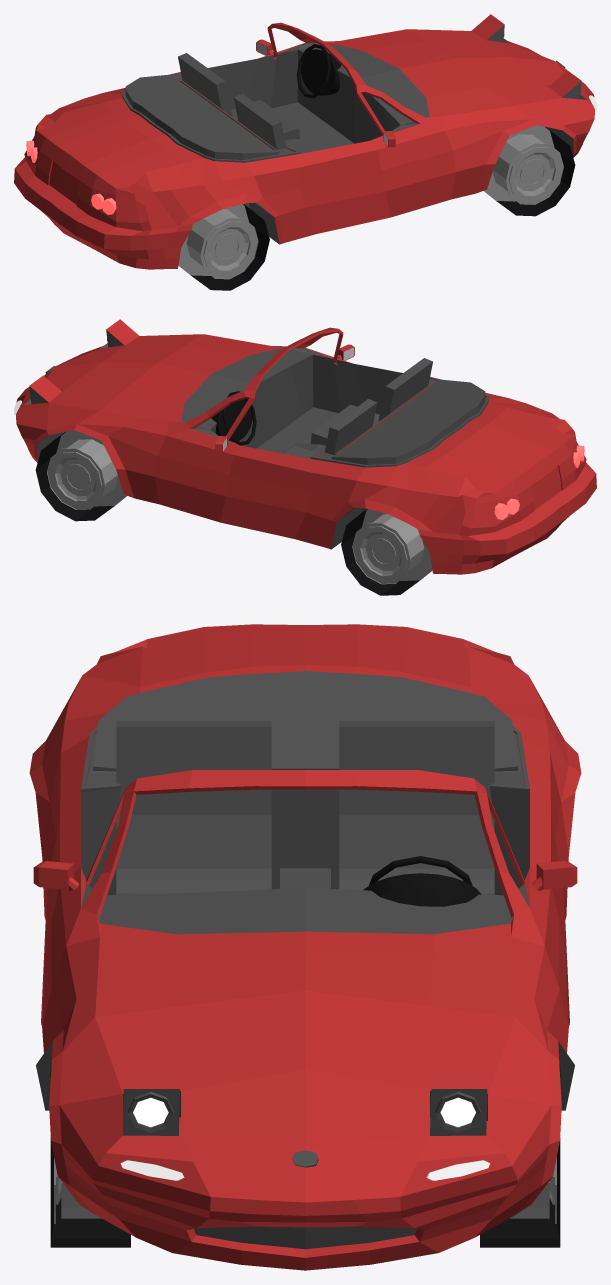
Rendered from classic_mazda_miata_cabriolet__low_poly.glb.
3 views of the same model, one above another, from view 1: azimuth 30°, elevation 25°; view 2: azimuth 150°, elevation 25°; view 3: azimuth 270°, elevation 25° (orthographic). The views are drawn at different scales.
Parts seen in each view (by area): view 1: Object_6, Object_7, Object_8, Object_9, Object_5; view 2: Object_6, Object_7, Object_8, Object_9, Object_5; view 3: Object_6, Object_7, Object_9, Object_8, Object_10, Object_4.
Part boxes in pixels (<box>): Object_6: <box>14,14,594,269</box>; Object_7: <box>122,24,587,244</box>; Object_8: <box>178,125,563,279</box>; Object_9: <box>191,44,575,290</box>; Object_5: <box>26,140,116,214</box>; Object_6: <box>16,319,596,574</box>; Object_7: <box>23,329,488,549</box>; Object_8: <box>47,430,432,584</box>; Object_9: <box>35,391,419,595</box>; Object_5: <box>494,445,584,519</box>; Object_6: <box>29,624,581,1270</box>; Object_7: <box>36,671,574,1249</box>; Object_9: <box>50,856,560,1247</box>; Object_8: <box>54,1157,556,1223</box>; Object_10: <box>133,1097,475,1127</box>; Object_4: <box>120,1160,490,1180</box>.
Size of the model in its own units: 6.54 by 1.93 by 2.97.
